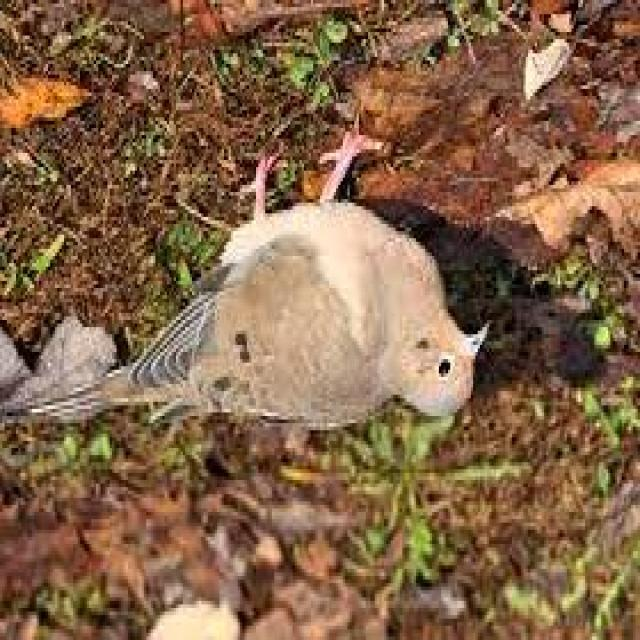pigeon: (20, 136, 487, 513)
